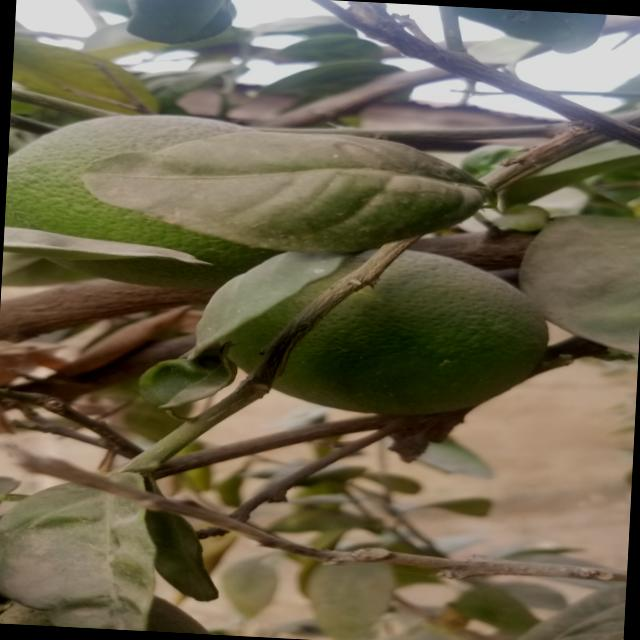Unripe: (221, 237, 558, 423), (11, 101, 295, 296)
